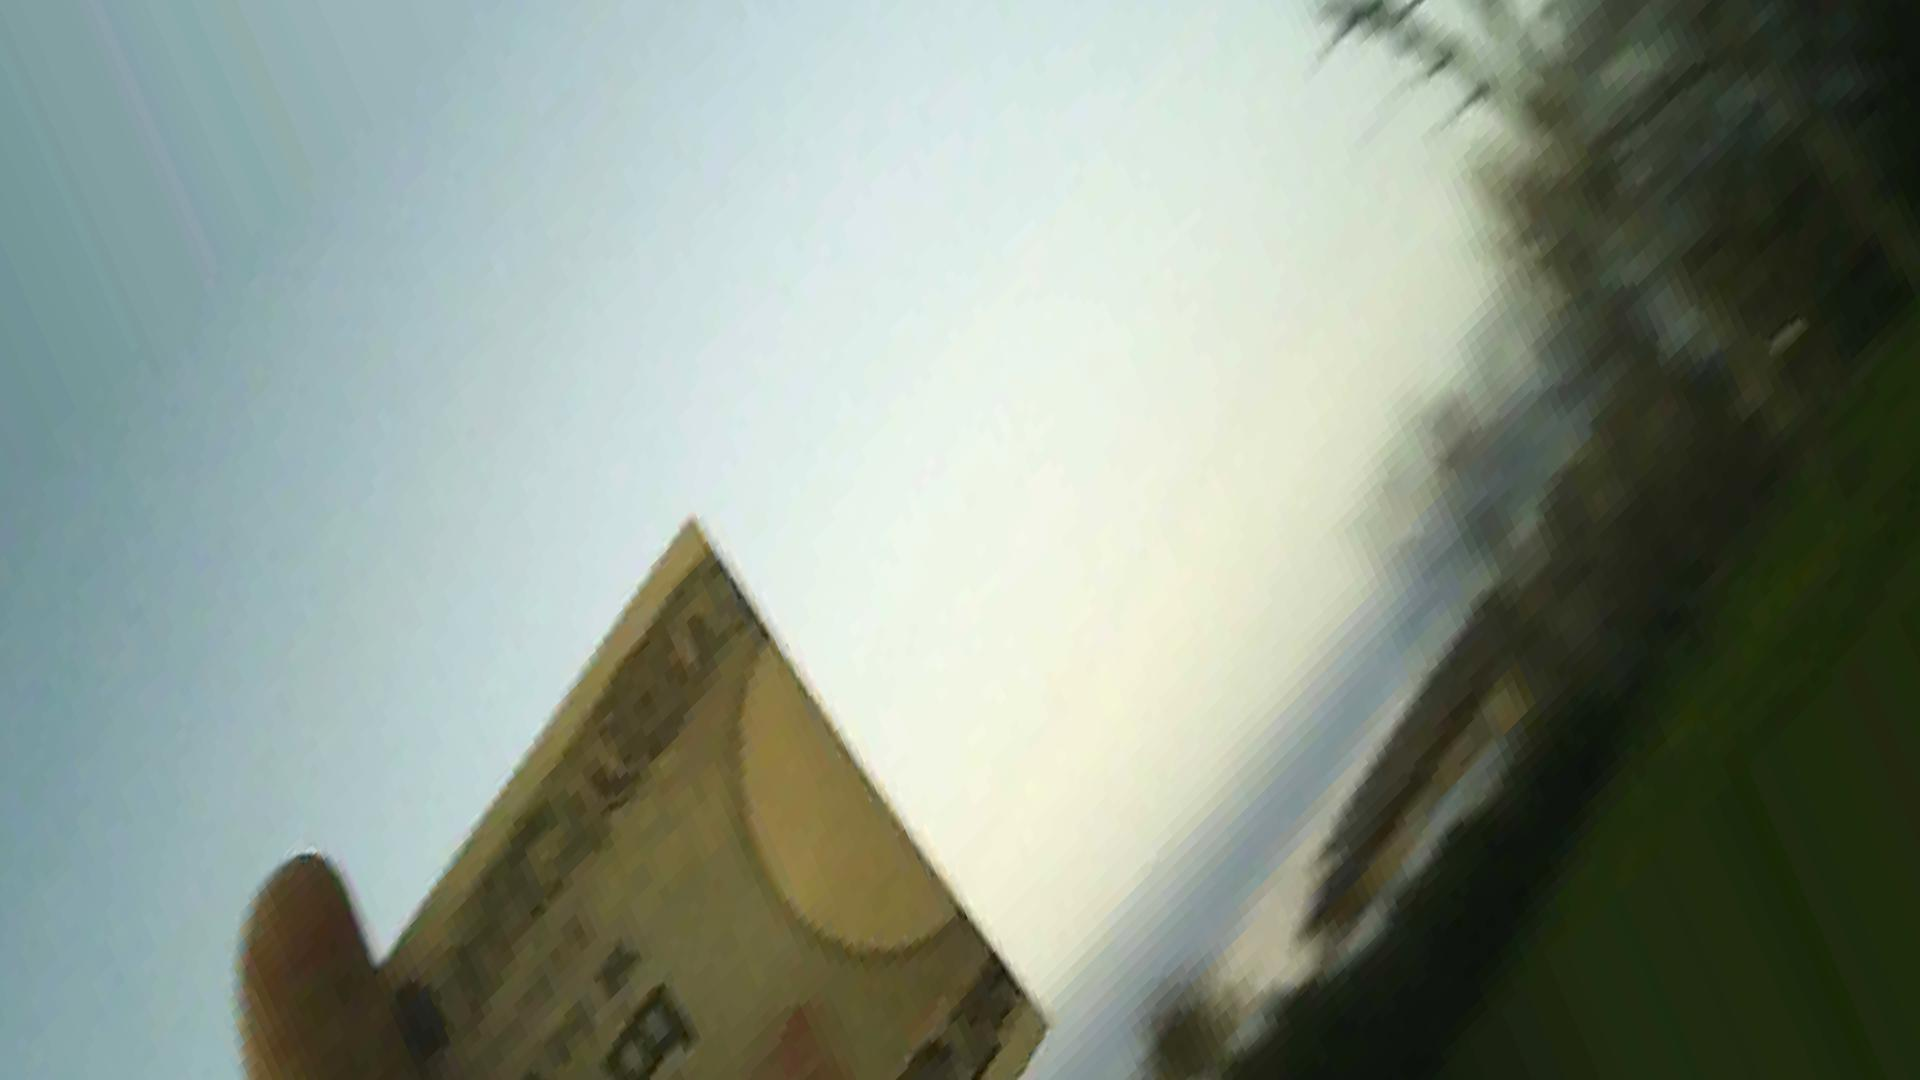10,000 Yen: (316, 524, 1047, 1069)
